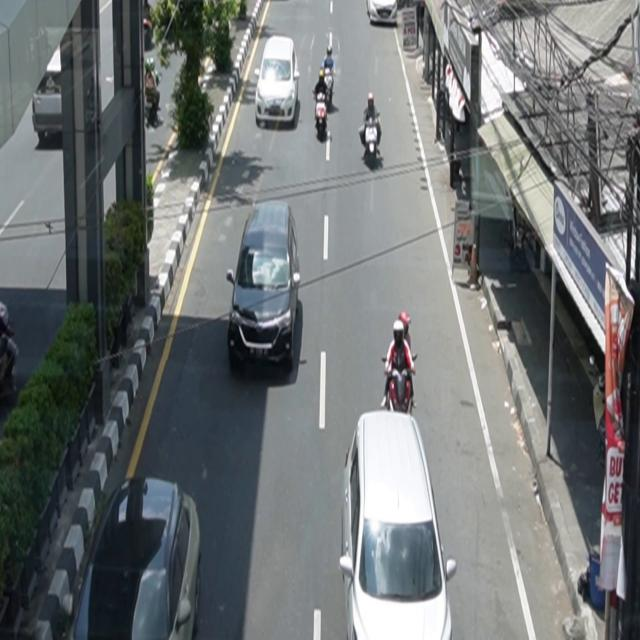car: (340, 410, 458, 640), (72, 477, 203, 640), (227, 200, 301, 371), (255, 35, 301, 129), (367, 1, 398, 26)
